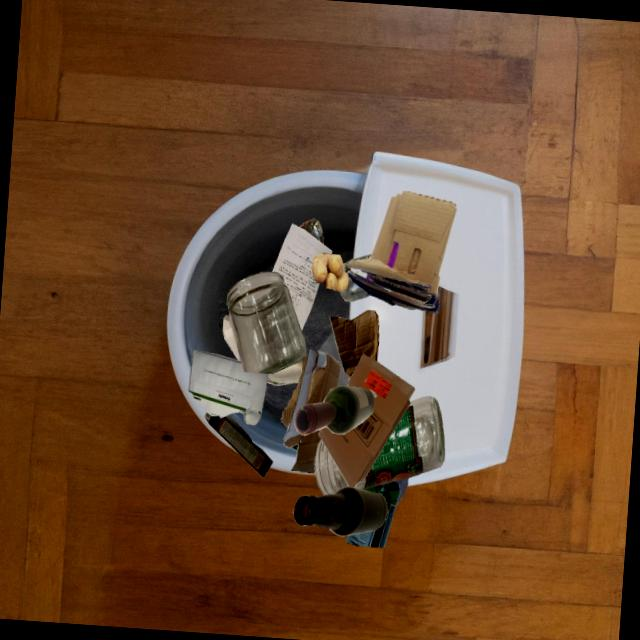biowaste: (312, 252, 348, 291)
cardboard: (346, 190, 457, 313), (318, 353, 414, 487), (280, 349, 340, 473), (204, 411, 272, 477), (329, 310, 378, 378)
glass: (354, 395, 444, 489), (226, 271, 306, 374), (293, 486, 387, 536), (294, 385, 374, 435), (345, 481, 399, 548), (319, 429, 321, 431)
metal: (299, 218, 323, 244)
paper: (272, 223, 332, 331), (187, 349, 268, 425), (266, 354, 307, 385), (222, 315, 240, 360)
plastic: (340, 276, 370, 301), (342, 253, 372, 276), (395, 477, 408, 504)
